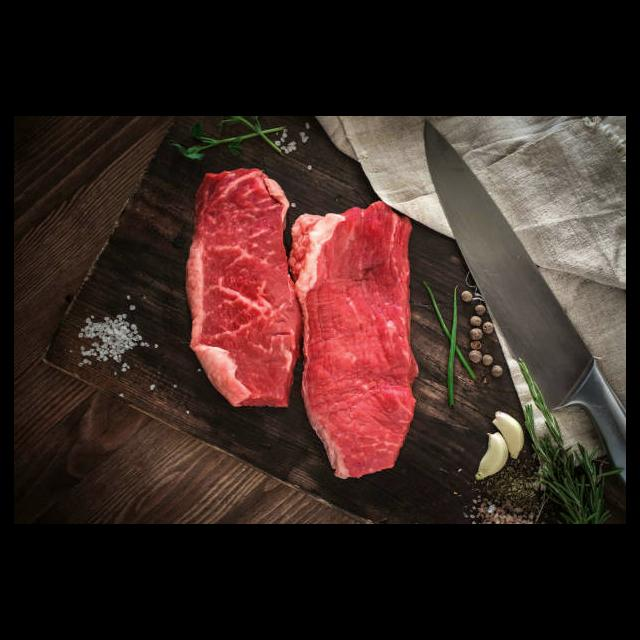beef: (286, 201, 419, 480), (182, 167, 303, 413)
